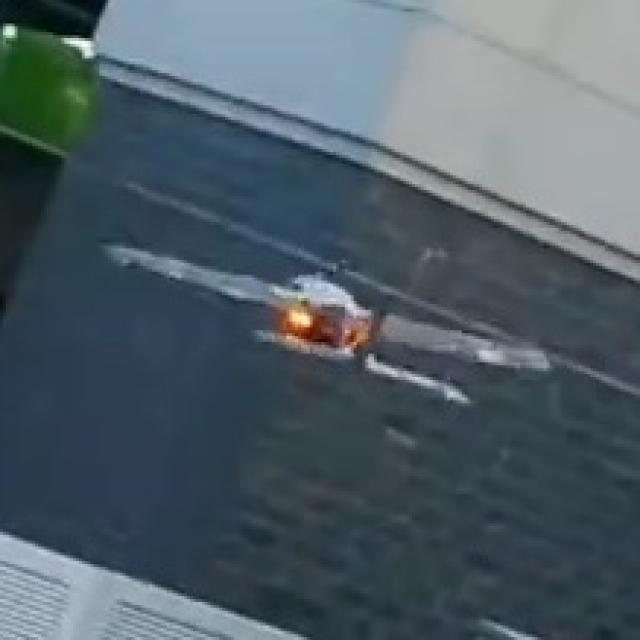iha: (91, 231, 555, 415)
